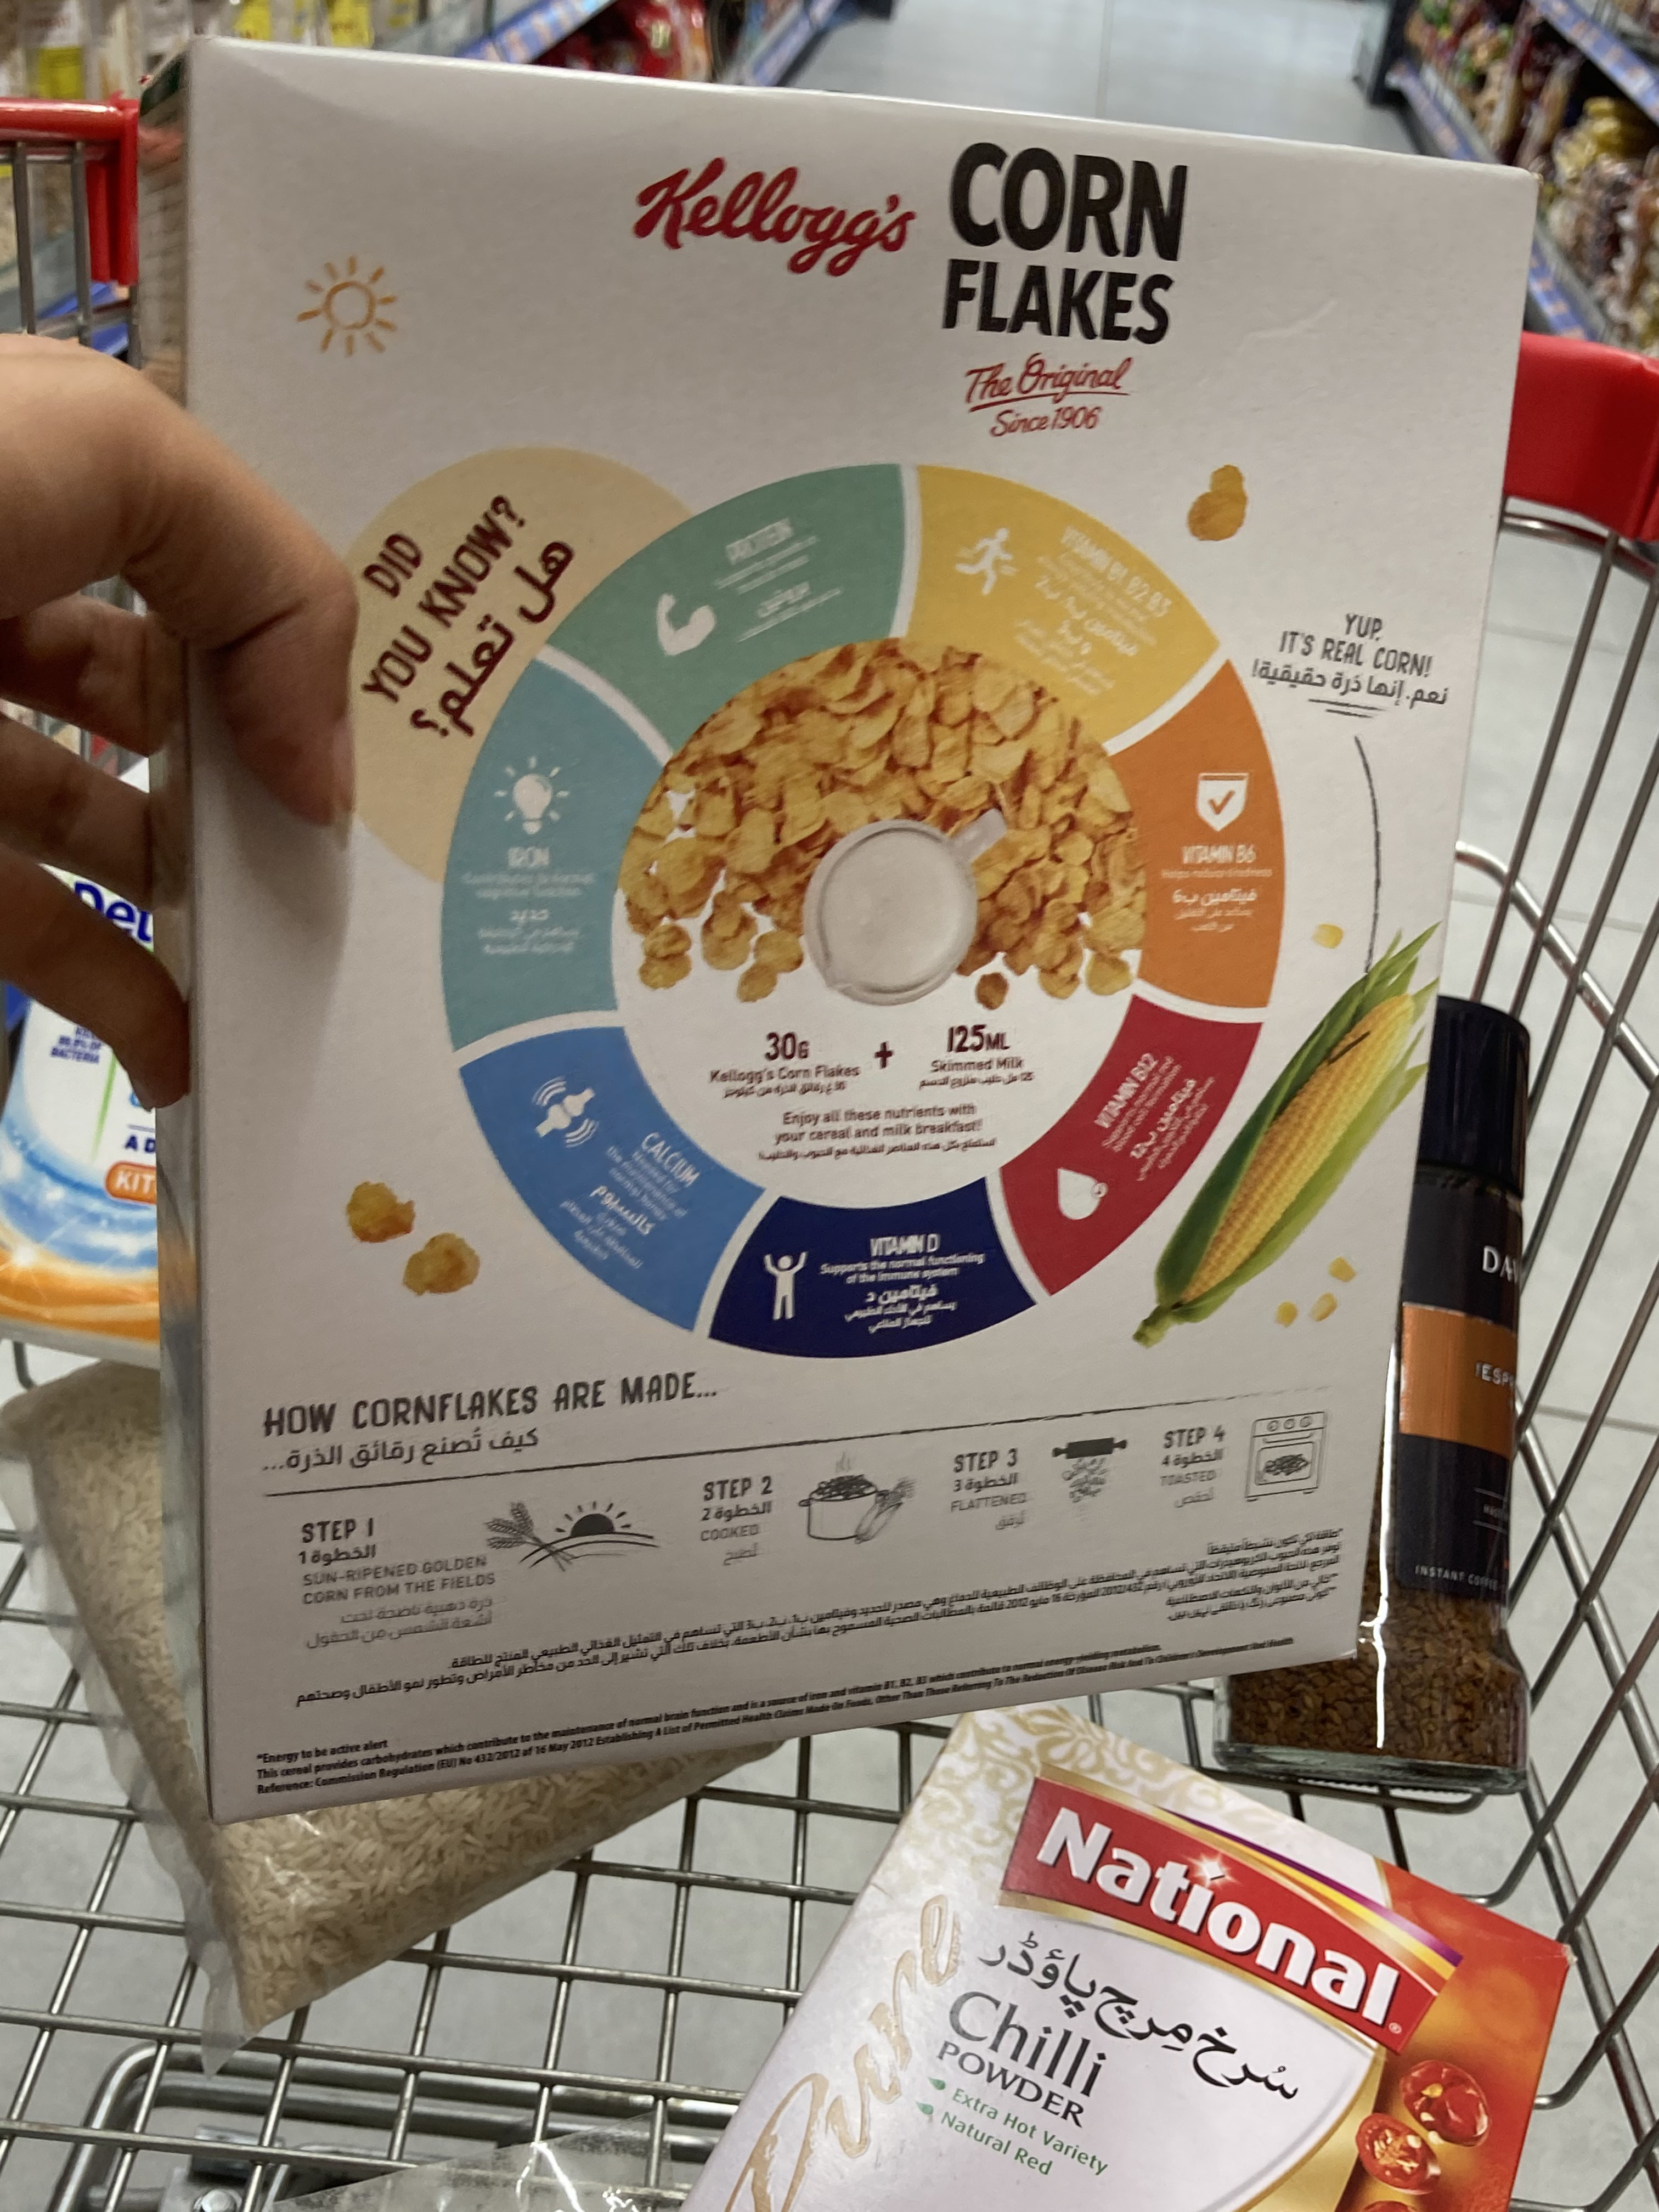Kellogg's Corn Flakes: (132, 37, 1544, 1829)
